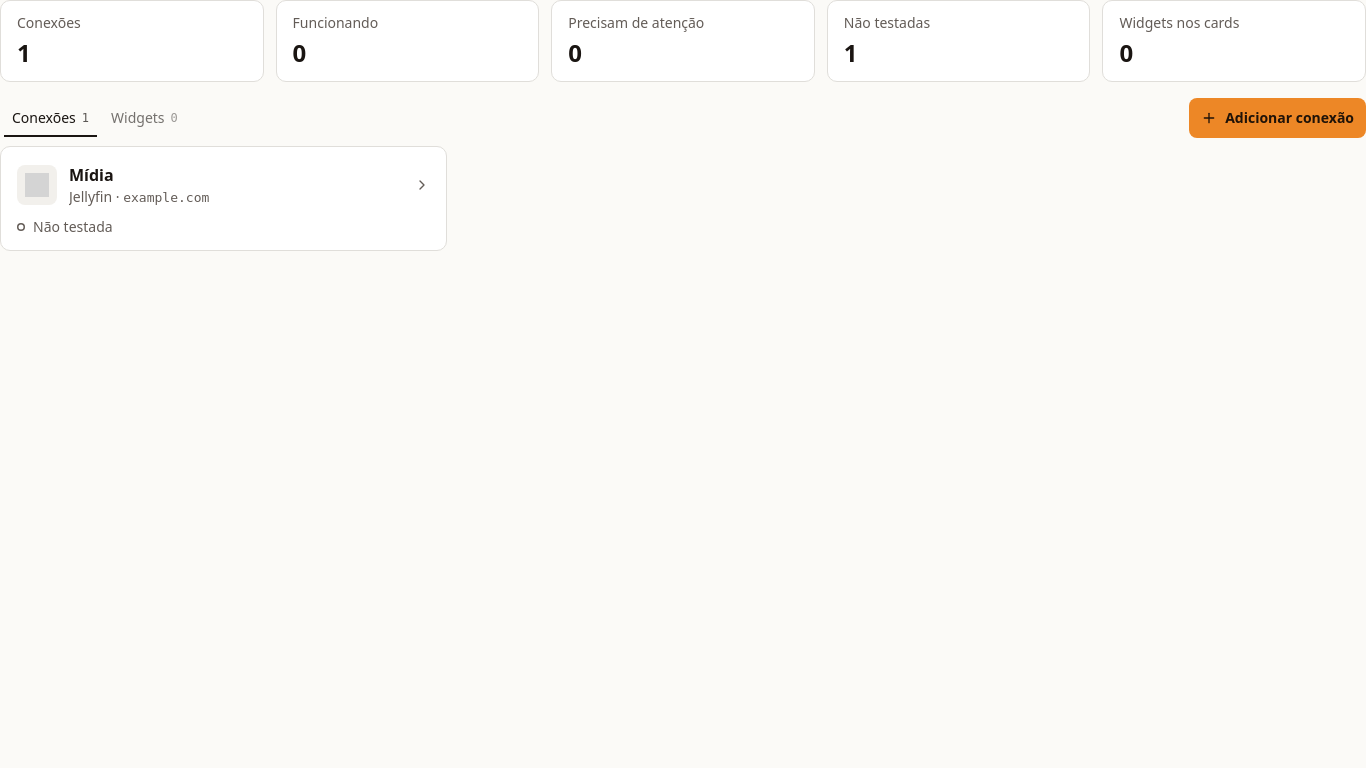
Test case: tests connection and displays sanitized API failure
The image size is (1366, 768).
Click the button "Mídia".
click(91, 175)  # box [69,163,402,187]
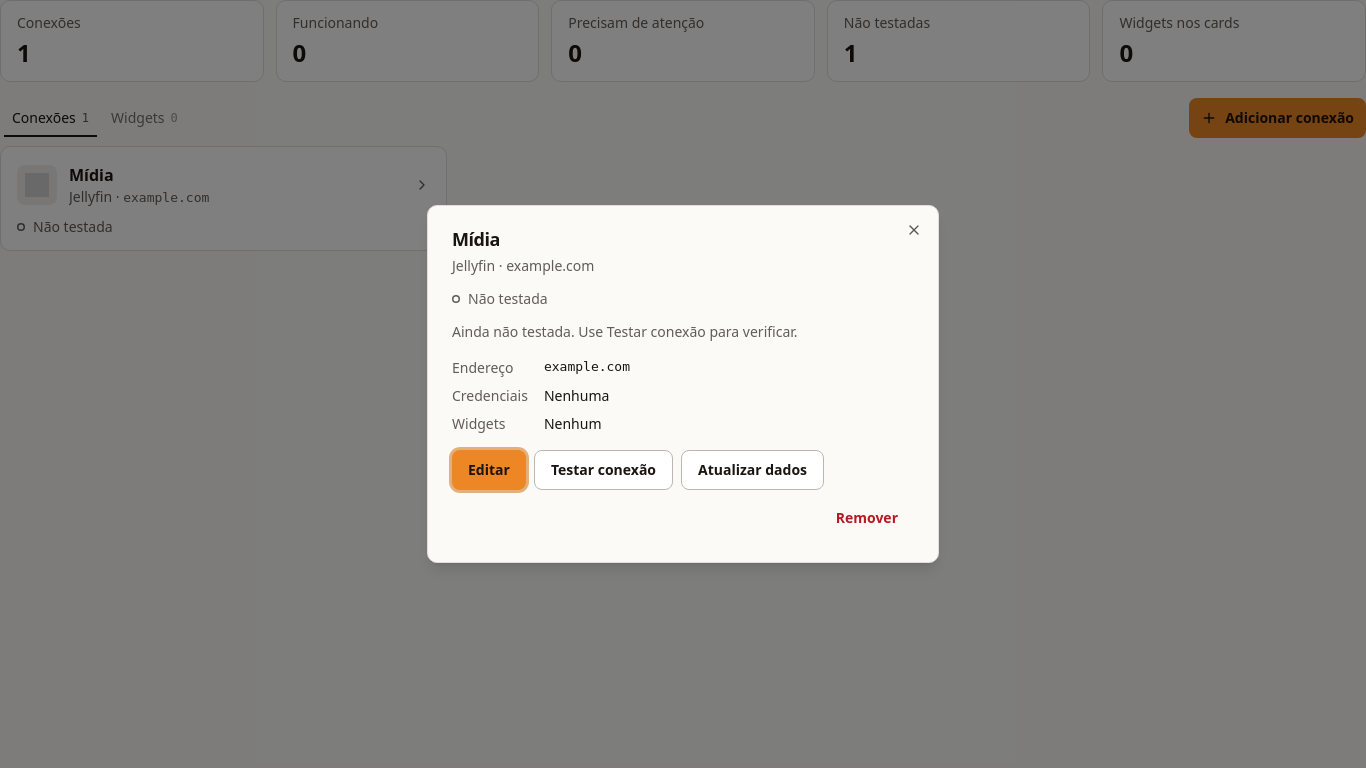
Click the button "Testar conexão".
click(604, 470)  # box [534,450,673,490]
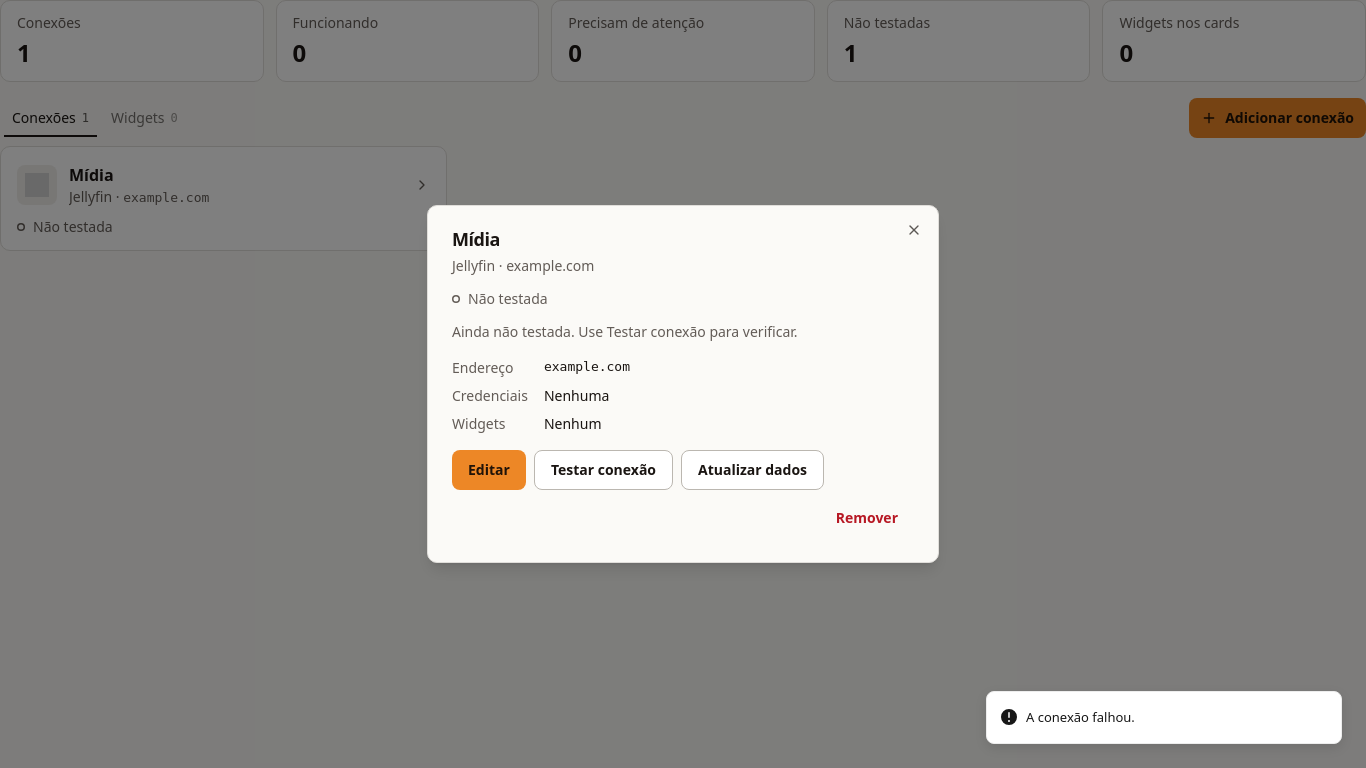
Now the text "A conexão falhou." is shown, box [1026,708,1135,727]
